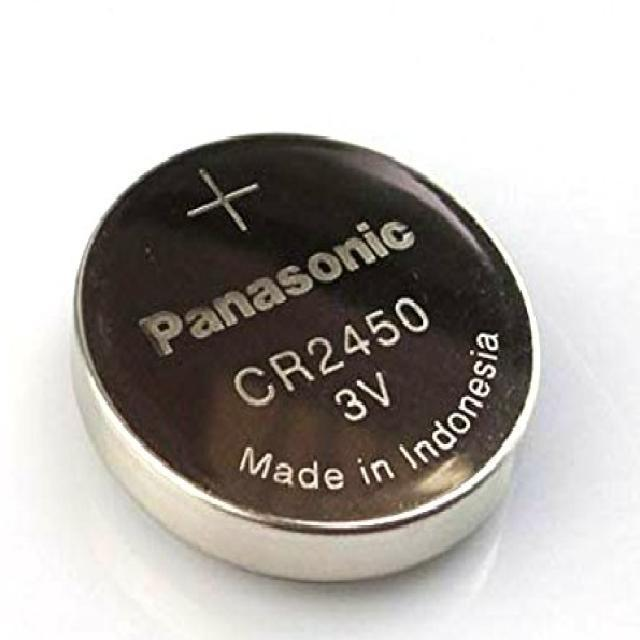COIN: (68, 127, 542, 584)
